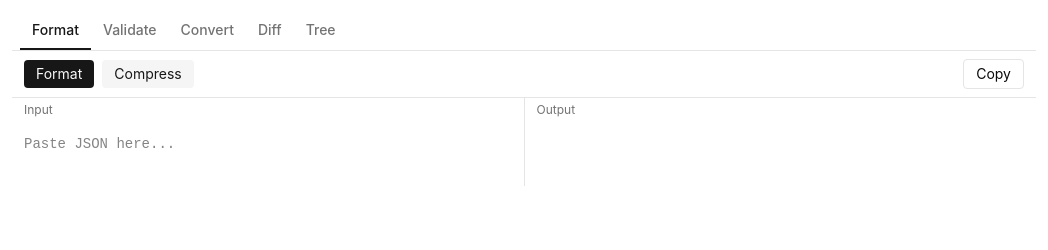
Test: JsonFormatterPanel › switches to Diff view on tab click
Click the button with test id "tab-diff" at (270, 31), box x1=246 y1=12 x2=294 y2=50
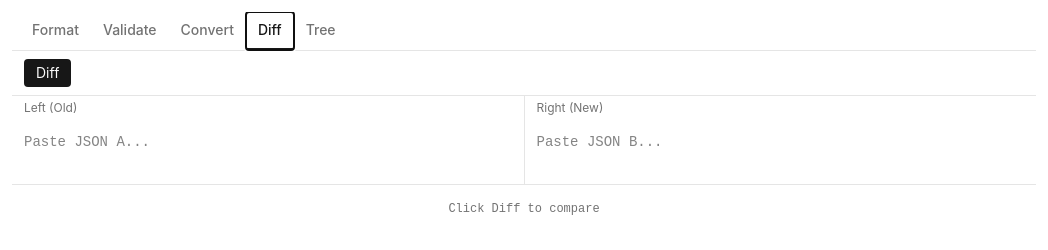
Expected: the element with test id "diff-view" is shown
